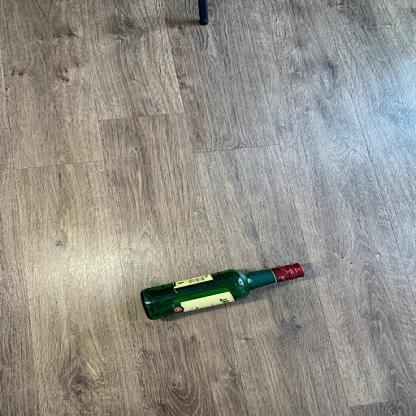trash: (137, 258, 308, 322)
